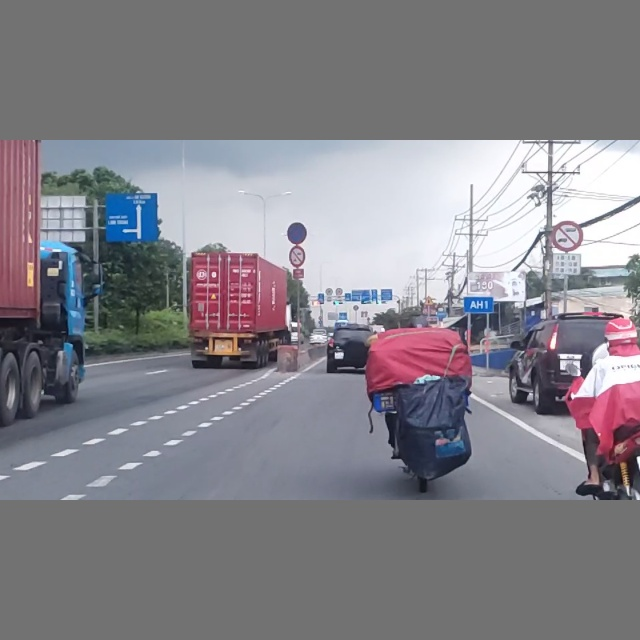P.107: (551, 220, 583, 252)
P.111: (289, 245, 305, 267)
P.130: (286, 222, 307, 244)
